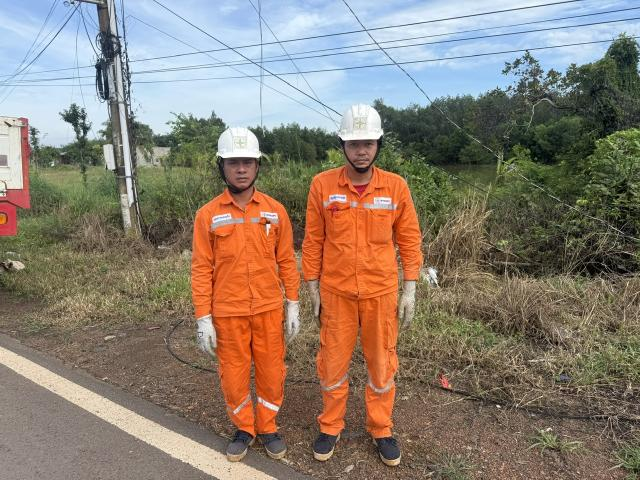gloves: (182, 300, 226, 357), (304, 270, 345, 329), (396, 273, 425, 340), (277, 289, 304, 352)
helmet: (322, 98, 401, 156), (206, 124, 271, 166)
shoes: (216, 421, 259, 467), (364, 422, 404, 469), (311, 419, 349, 462), (258, 422, 299, 459)
